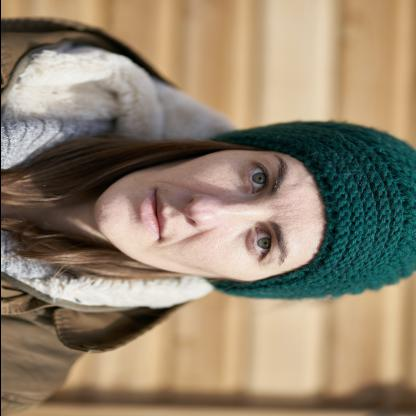Eye: (241, 224, 275, 264), (242, 160, 272, 196)
Mouth: (136, 185, 174, 242)
Nose: (177, 192, 257, 232)
